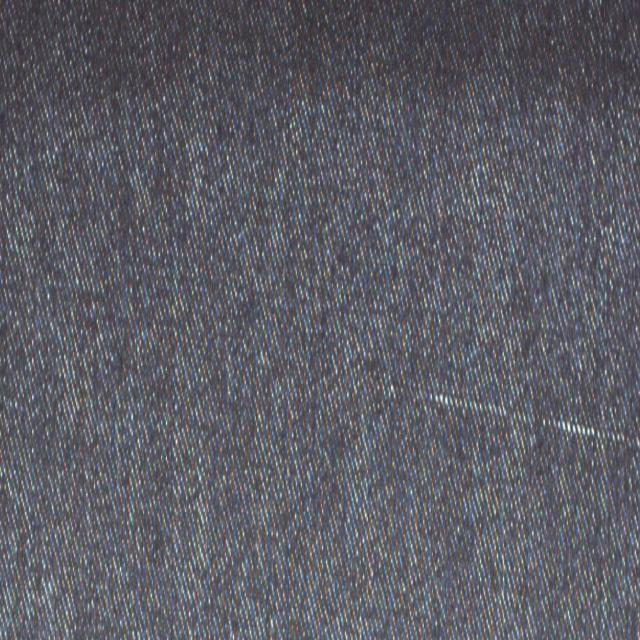Line: (372, 370, 640, 457)
